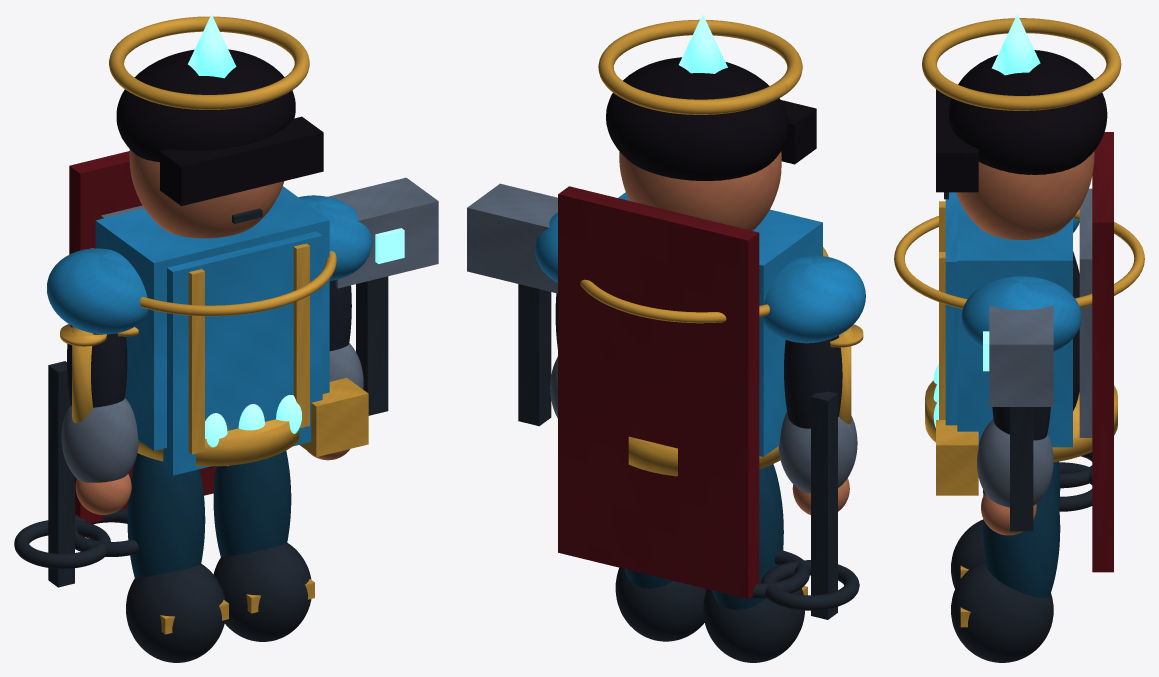
The model's file is Mastery.glb.
3 renders of one model, left to right at view 1: azimuth 30°, elevation 25°; view 2: azimuth 150°, elevation 25°; view 3: azimuth 270°, elevation 25°, orthographic. The views are drawn at different scales.
Visible parts, largest first — view 1: MerchantVest, ChestPlate, Hair, HairFringe, Leg, Boot, Boot.001, Leg.001, Shoulder, CrownRing, HammerHead, Head (+20 smaller); view 2: Cape, Hair, HammerHead, Shoulder, CrownRing, Head, ChestPlate, CartHandle, Boot, HammerHandle, Boot.001, Arm (+11 smaller); view 3: Hair, ChestPlate, Cape, Head, Boot.001, CrownRing, HammerHead, Leg.001, Shoulder.001, Gauntlet.001, BackArmor, HammerHandle (+13 smaller).
Part boxes in pixels (x1,y1,x2,y2): MerchantVest: (163, 231, 322, 475); ChestPlate: (95, 186, 329, 450); Hair: (116, 49, 295, 162); HairFringe: (160, 116, 323, 206); Leg: (127, 453, 205, 578); Boot: (126, 564, 225, 662); Boot.001: (213, 543, 311, 641); Leg.001: (213, 451, 291, 557); Shoulder: (47, 248, 147, 334); CrownRing: (109, 16, 309, 109); HammerHead: (327, 177, 438, 288); Head: (129, 149, 284, 238); Cape: (558, 186, 759, 598); Hair: (606, 57, 788, 180); HammerHead: (467, 183, 557, 293); Shoulder: (761, 255, 865, 343); CrownRing: (598, 19, 802, 114); Head: (619, 151, 781, 230); ChestPlate: (618, 192, 822, 456); CartHandle: (811, 391, 837, 619); Boot: (703, 579, 804, 662); HammerHandle: (518, 284, 551, 426); Boot.001: (615, 567, 706, 641); Arm: (784, 335, 842, 428); Hair: (948, 50, 1107, 174); ChestPlate: (957, 196, 1072, 447); Cape: (1092, 132, 1113, 572); Head: (956, 151, 1094, 239); Boot.001: (951, 560, 1053, 662); CrownRing: (922, 18, 1121, 110); HammerHead: (989, 305, 1053, 406); Leg.001: (983, 472, 1060, 597); Shoulder.001: (961, 276, 1081, 351); Gauntlet.001: (977, 419, 1053, 507); BackArmor: (1079, 188, 1092, 437); HammerHandle: (1010, 407, 1033, 531).
Bounding box in the file's own units: 2.05 × 3.21 × 1.17.
12 materials, 9 textured.
